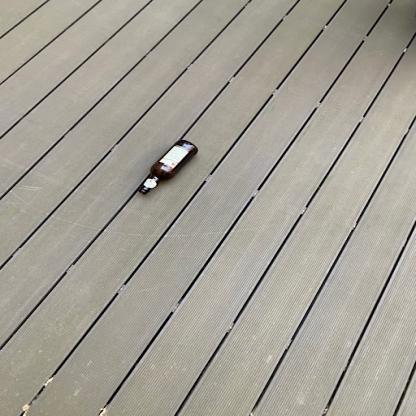trash: (134, 139, 198, 199)
